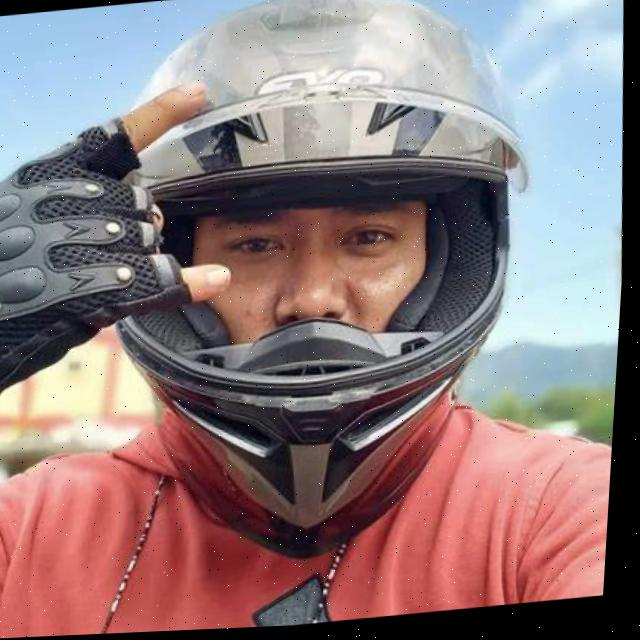helmet: (69, 0, 574, 592)
